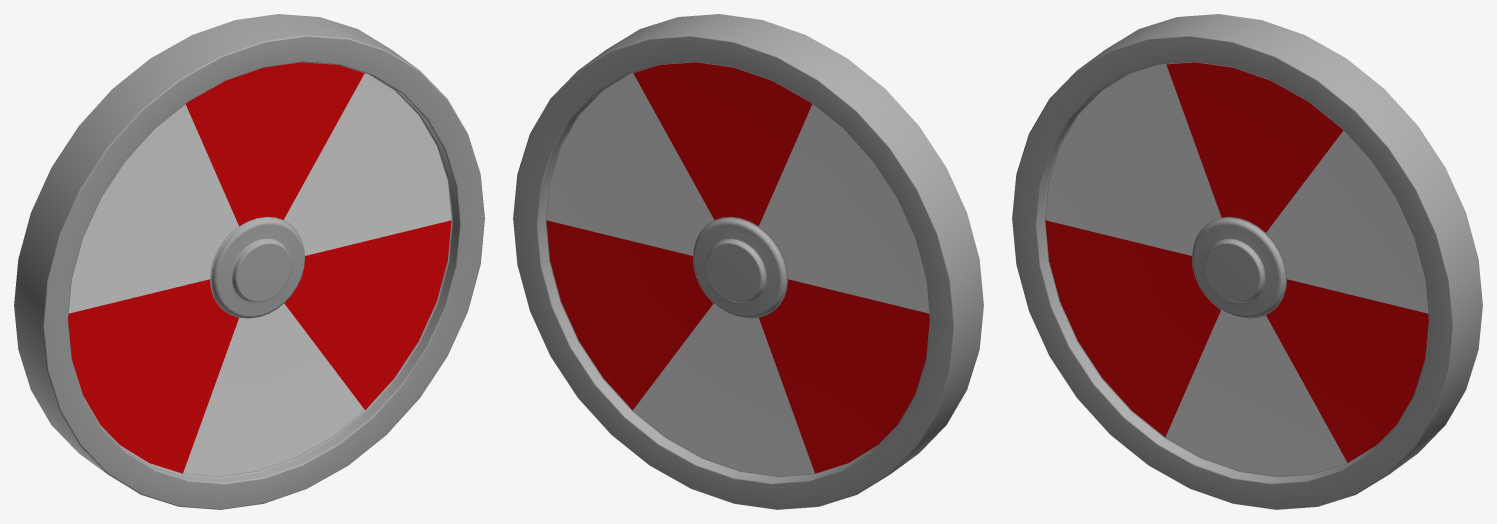
Rendered from Fizika_21.02.fbx.
The picture shows the model from 3 angles, left to right: view 1: azimuth 30°, elevation 25°; view 2: azimuth 150°, elevation 25°; view 3: azimuth 330°, elevation 25°; orthographic projection.
Parts seen in each view (by area): view 1: Circle.003; view 2: Circle.003; view 3: Circle.003.
Boxes of the visible parts, <box> form: Circle.003: <box>14,14,484,509</box>; Circle.003: <box>513,14,983,509</box>; Circle.003: <box>1012,14,1482,509</box>.
Bounding box in the file's own units: 14.74 × 14.74 × 1.74.
